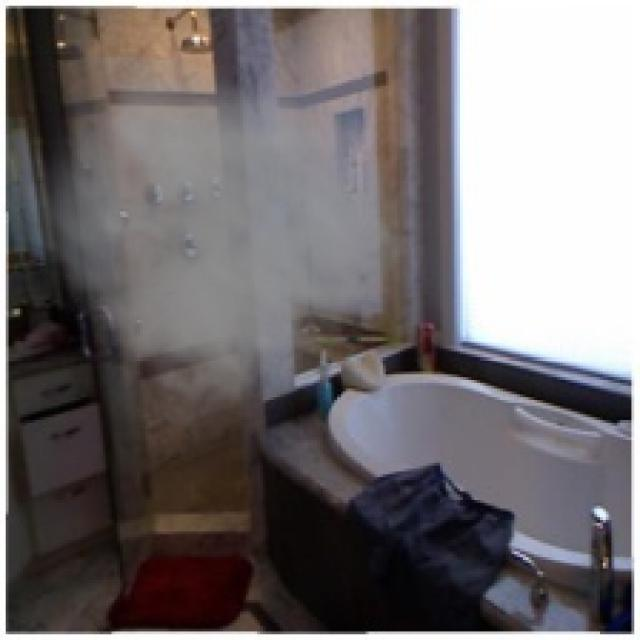smoke: (11, 57, 426, 446)
